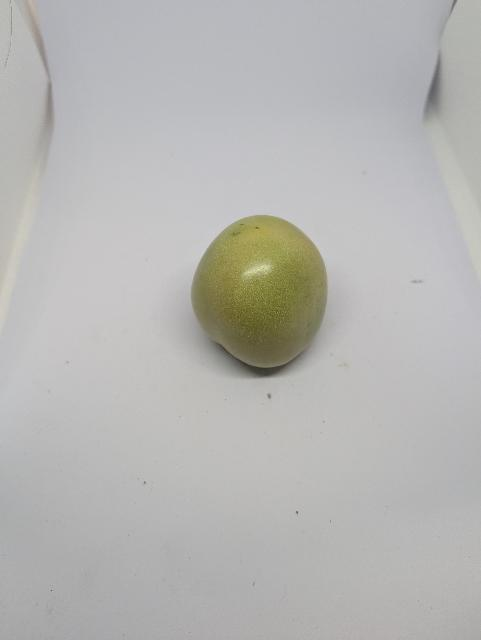green: (191, 213, 338, 371)
